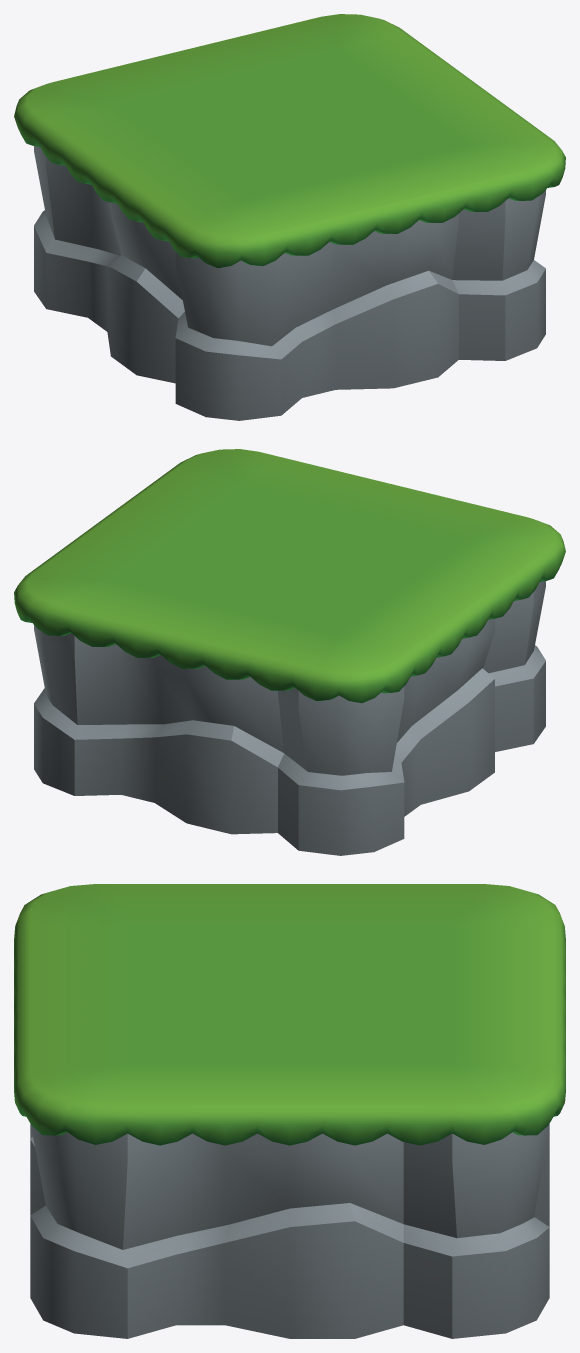
The model's file is Hill_8x8x4_Color1.gltf.
The picture shows the model from 3 angles, top to bottom: view 1: azimuth 30°, elevation 25°; view 2: azimuth 150°, elevation 25°; view 3: azimuth 270°, elevation 25°; orthographic projection. The views are drawn at different scales.
Parts seen in each view (by area): view 1: Hill_8x8x4_Color1; view 2: Hill_8x8x4_Color1; view 3: Hill_8x8x4_Color1.
Part boxes in pixels (<box>): Hill_8x8x4_Color1: <box>14,14,565,420</box>; Hill_8x8x4_Color1: <box>14,449,565,855</box>; Hill_8x8x4_Color1: <box>14,884,565,1338</box>.
Bounding box in the file's own units: 8.5 × 4 × 8.5.
1 material, 1 textured.
